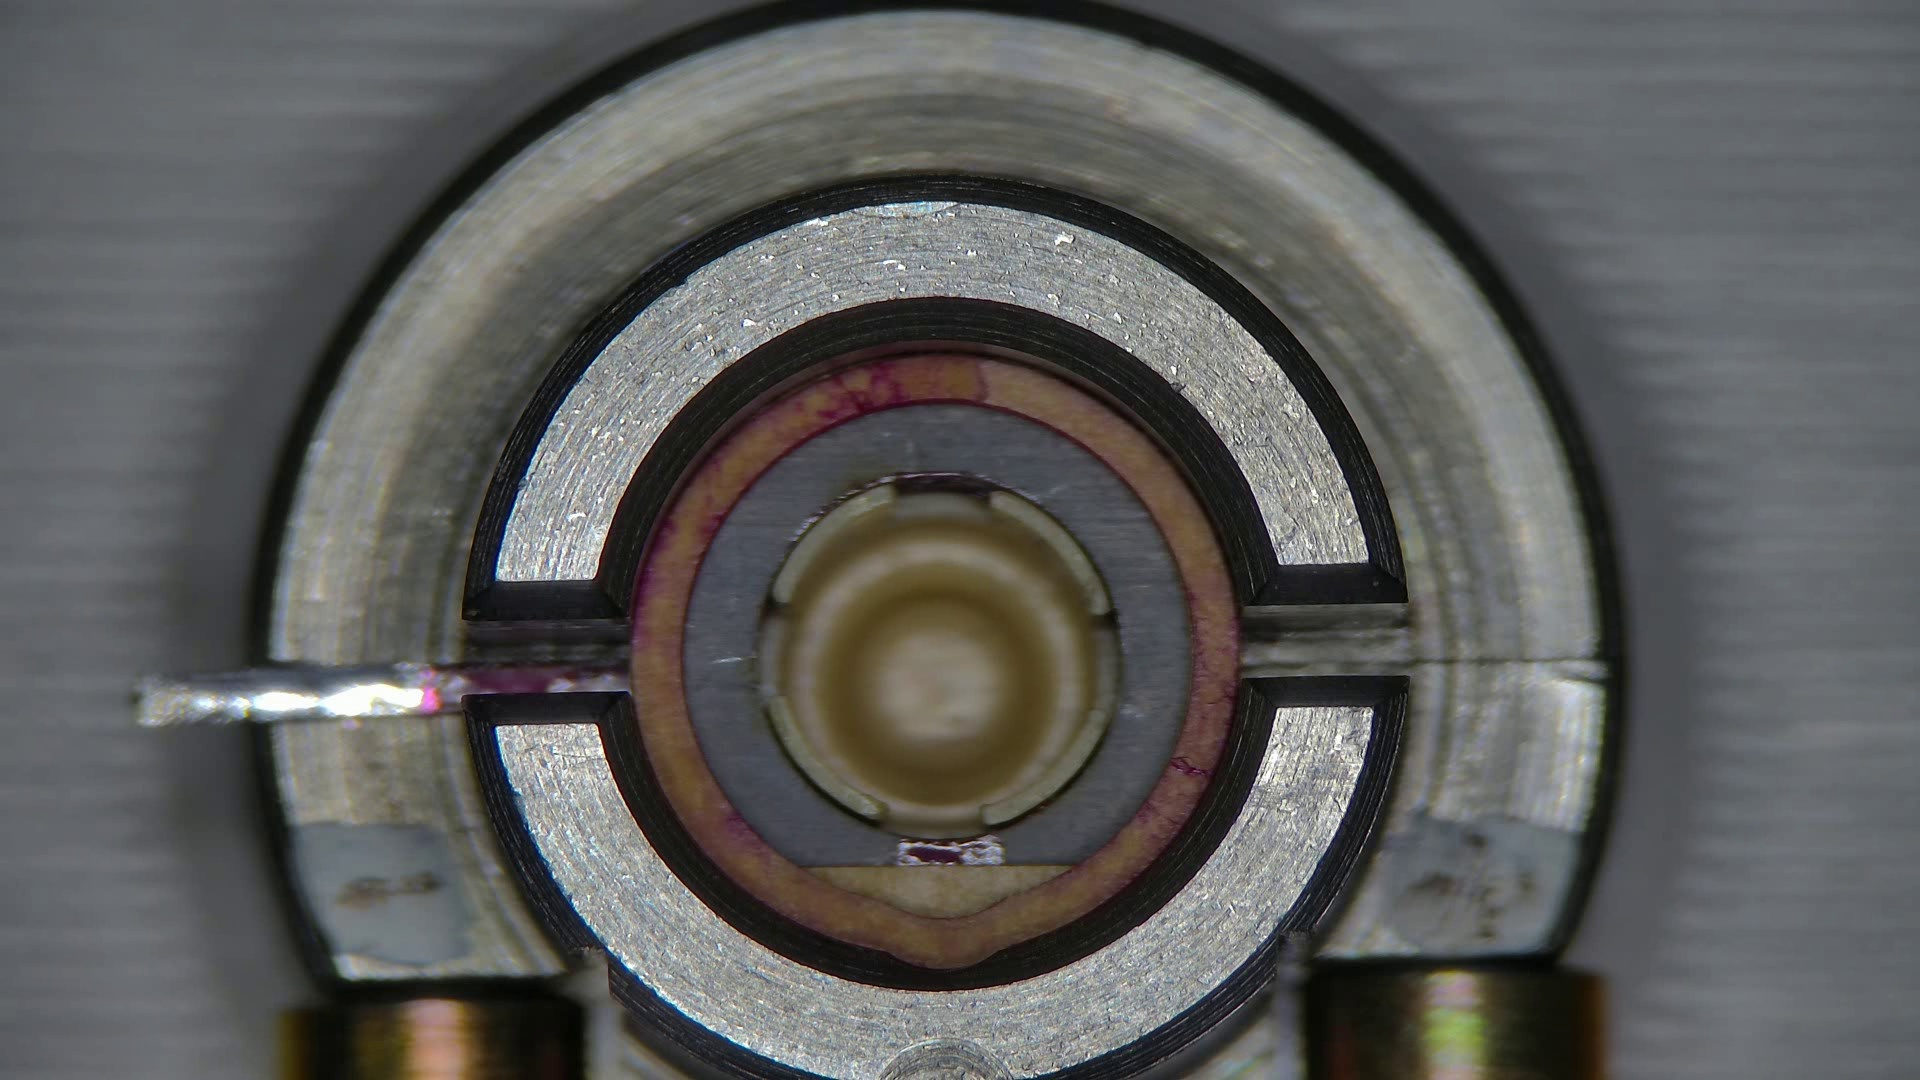GreyOring: (632, 351, 1238, 957)
YellowOring: (684, 405, 1189, 862)
redOring: (811, 864, 1068, 916)
